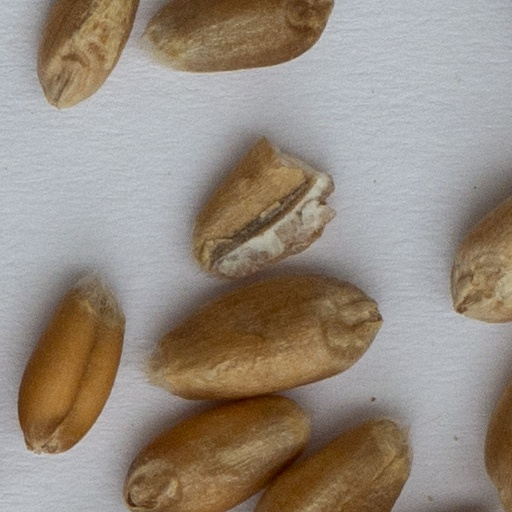Wheat-grain-damaged-poly: (187, 132, 342, 280)
